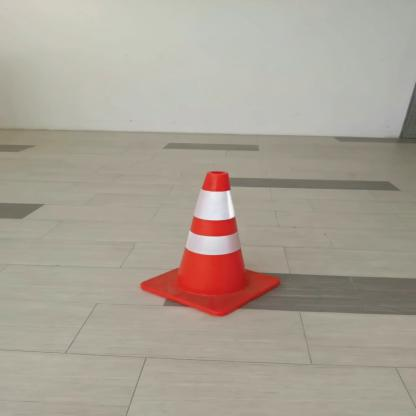cone: (132, 163, 290, 325)
